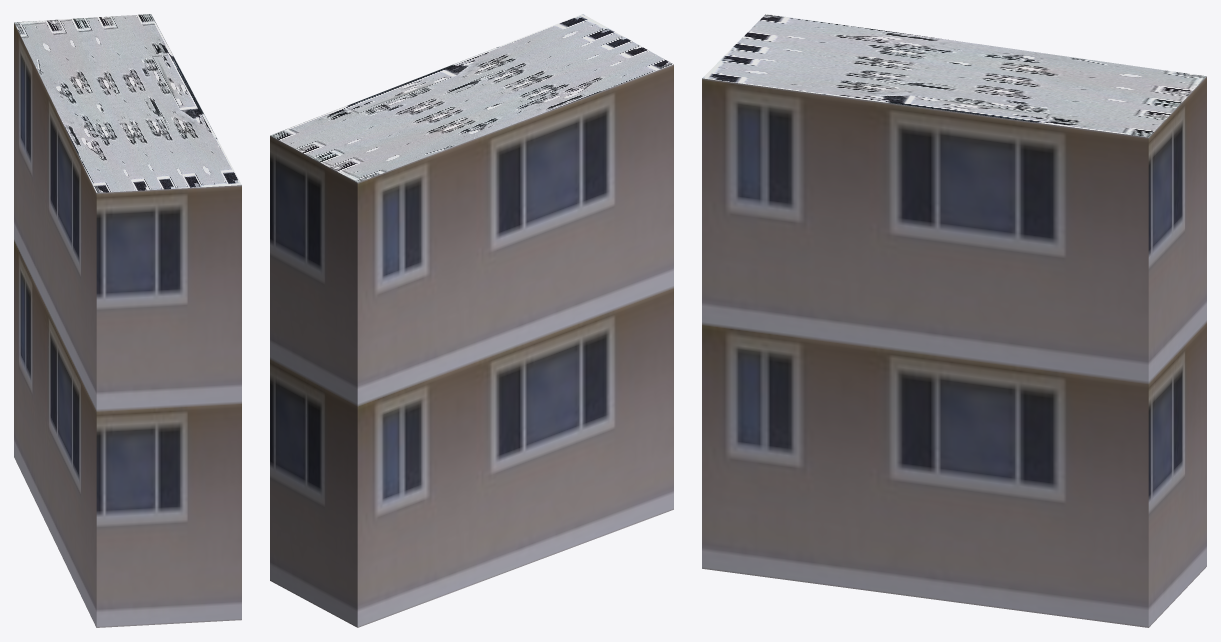
The model's file is ResTex__2605.fbx.
The picture shows the model from 3 angles, left to right: view 1: azimuth 30°, elevation 25°; view 2: azimuth 150°, elevation 25°; view 3: azimuth 270°, elevation 25°; orthographic projection. The views are drawn at different scales.
Parts seen in each view (by area): view 1: CityEngineMaterial_21_m, CityEngineMaterial_8_m; view 2: CityEngineMaterial_21_m, CityEngineMaterial_8_m; view 3: CityEngineMaterial_21_m, CityEngineMaterial_8_m.
Part boxes in pixels (x1,y1,x2,y2): CityEngineMaterial_21_m: (14, 22, 241, 627); CityEngineMaterial_8_m: (14, 14, 241, 192); CityEngineMaterial_21_m: (270, 64, 673, 627); CityEngineMaterial_8_m: (270, 14, 673, 182); CityEngineMaterial_21_m: (702, 76, 1206, 627); CityEngineMaterial_8_m: (702, 14, 1206, 137).
Size of the model in its own units: 3.24 by 6 by 5.6.
2 materials, 2 textured.
